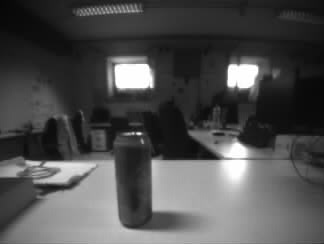Tin can: (115, 132, 152, 225)
